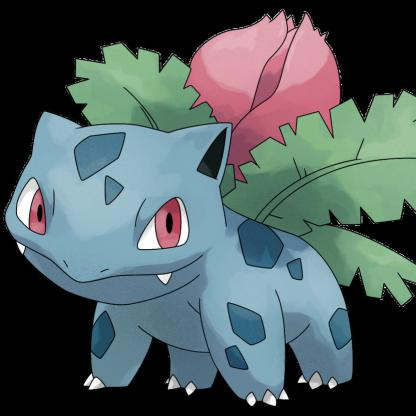Ivysaur: (1, 11, 416, 416)
